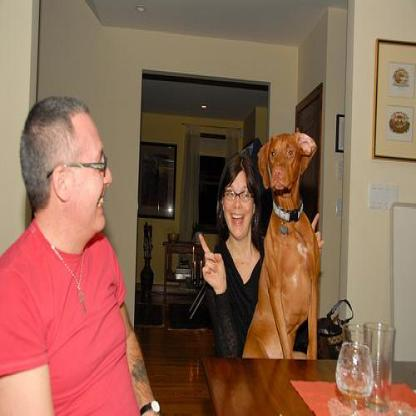vizsla: (239, 128, 318, 356)
